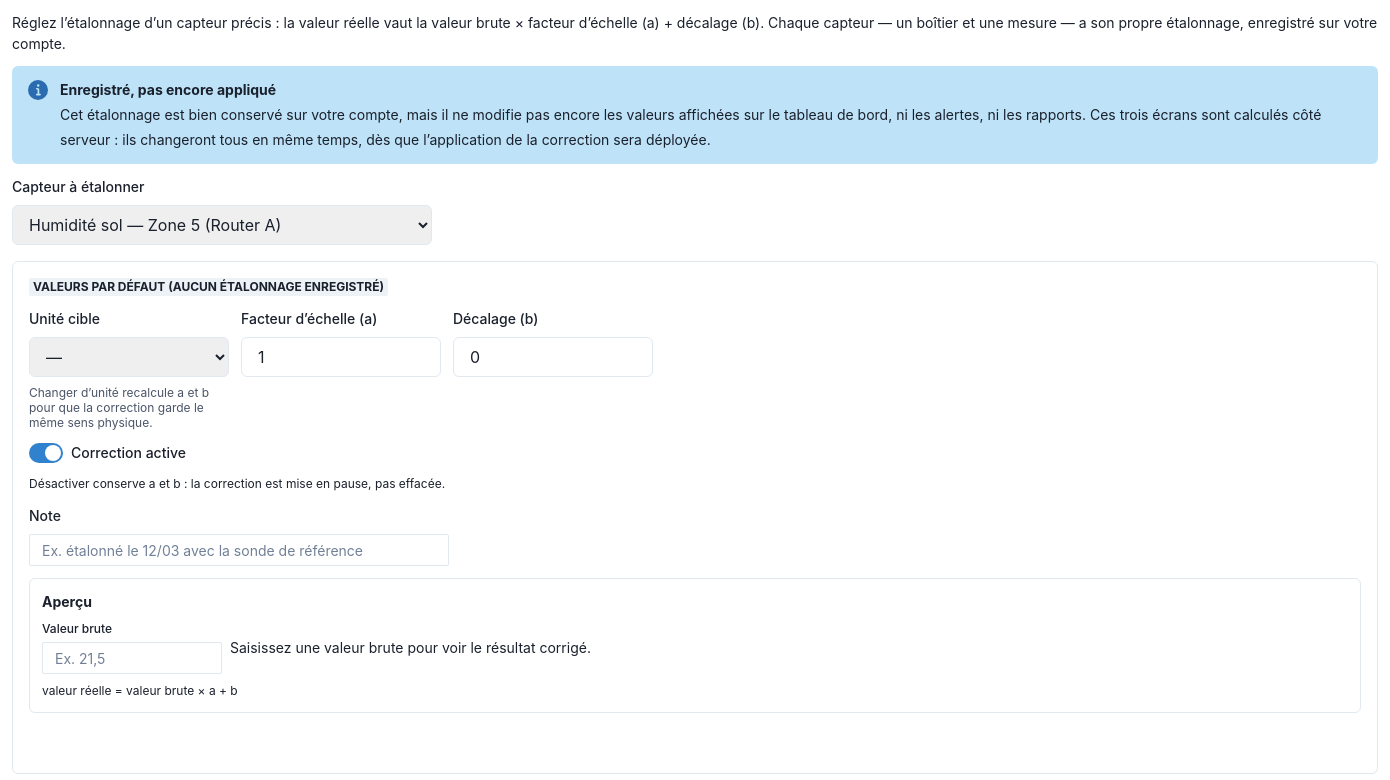
Test: SensorCalibrationSettings — per-sensor, account-persisted › previews "raw X → corrected Y" before anything is saved
The width and height of the screenshot is (1390, 780).
Replace the text in the number field labelled "Facteur d’échelle (a)" with "2" at x=341, y=357, box [241,337,441,377]
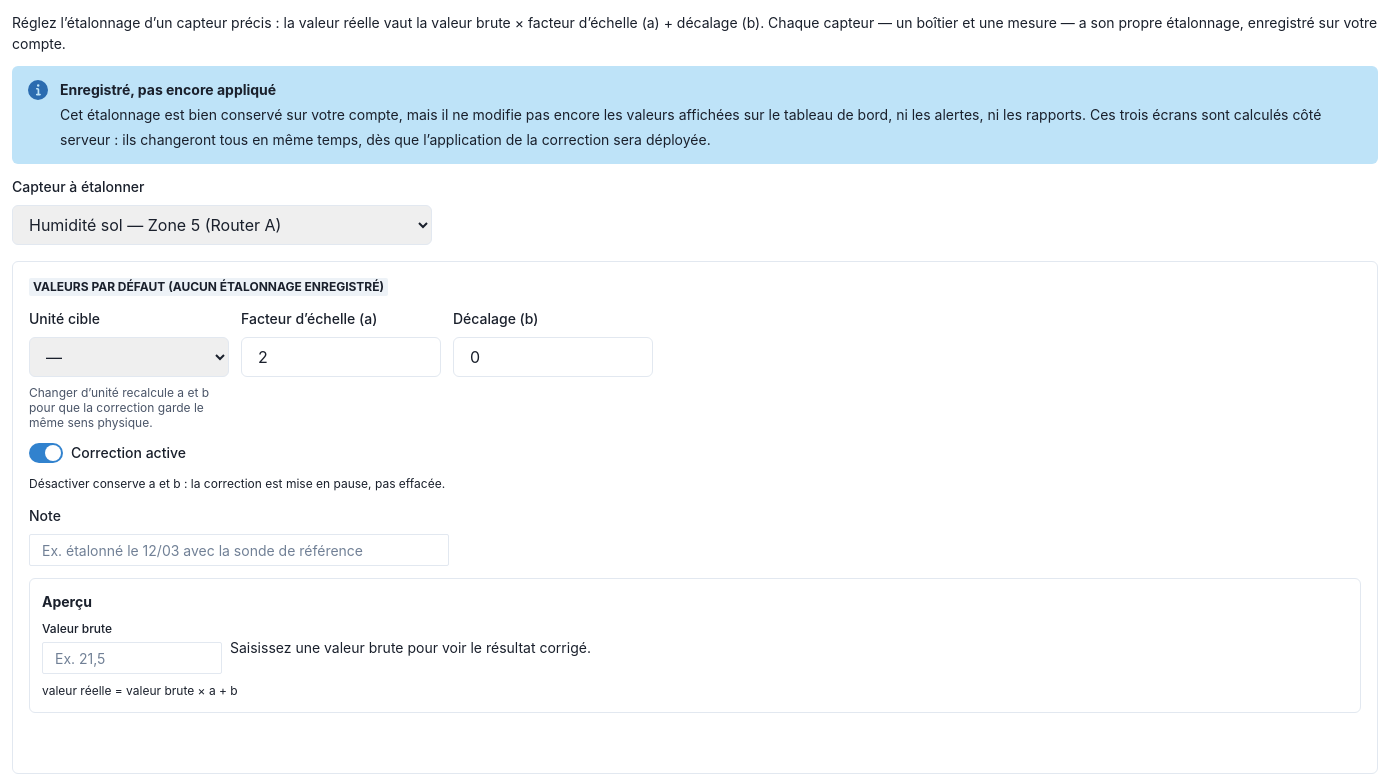
Replace the text in the number field labelled "Décalage (b)" with "1" at x=553, y=357, box [453,337,653,377]
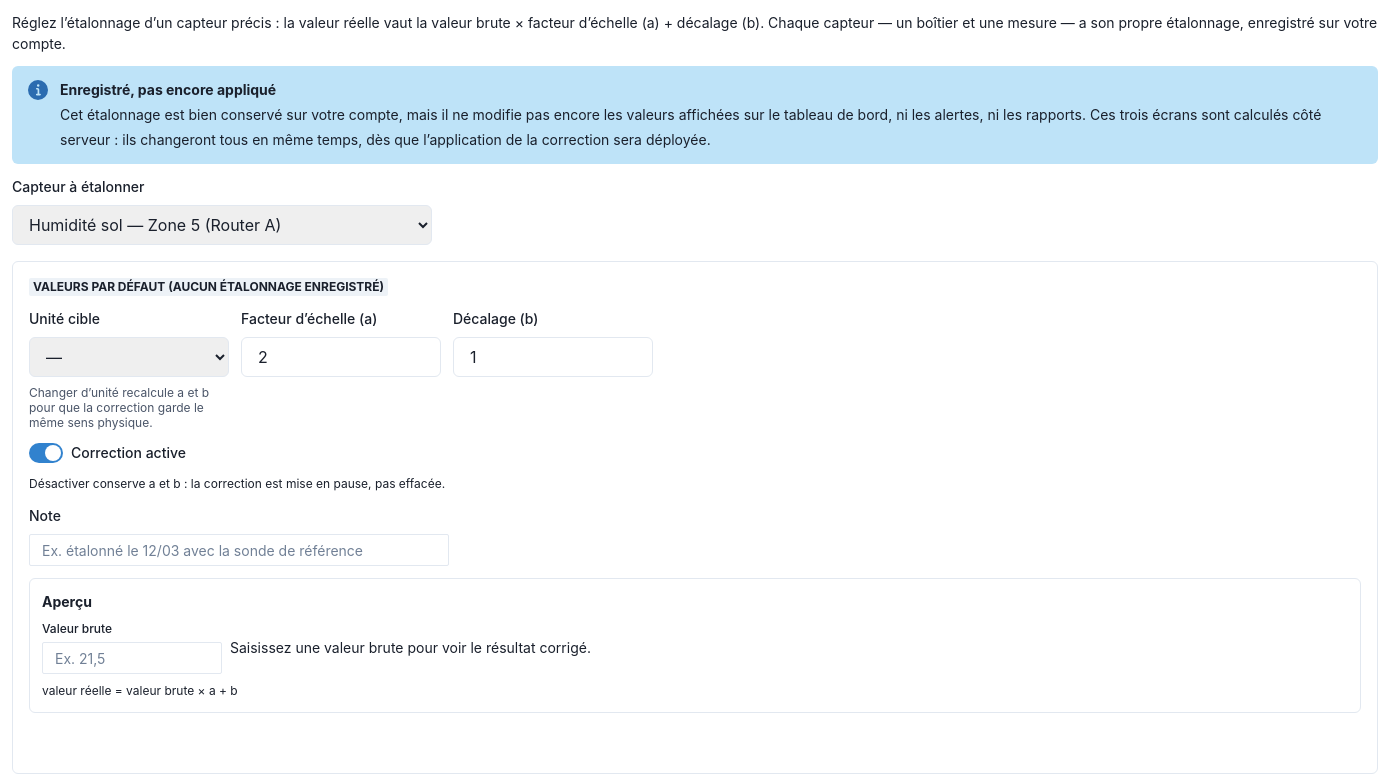
Type "10" into the number field labelled "Valeur brute" at x=132, y=658, box [42,642,222,674]
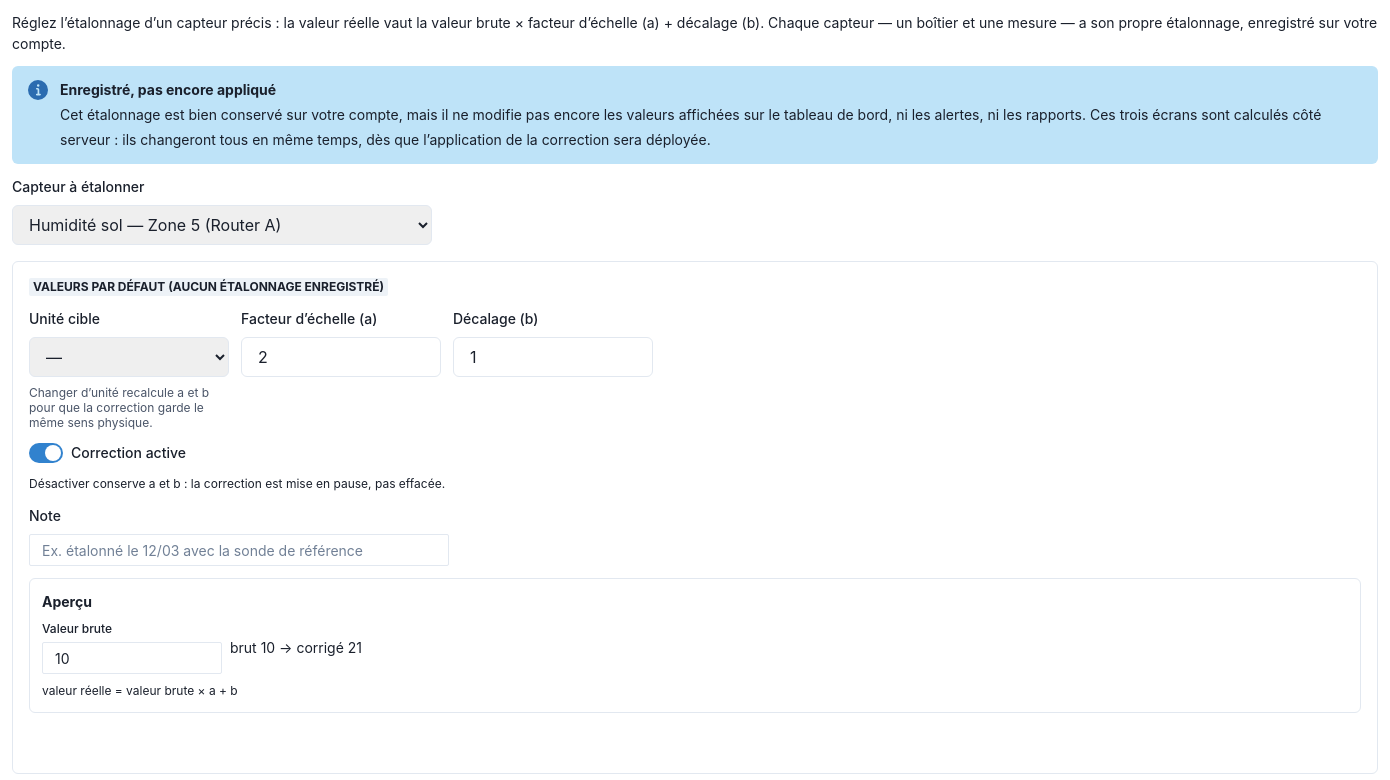
Result: the text with test id "calibration-preview" shows "21" at [230,638,362,656]
